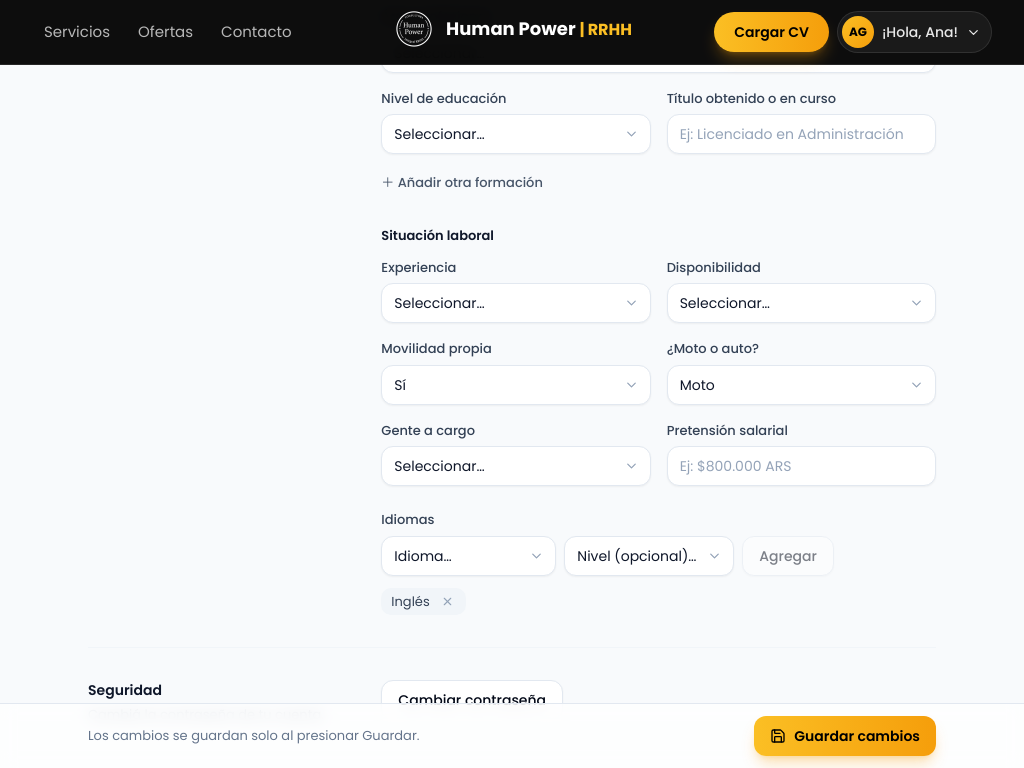
ProfilePage · movilidad y gente a cargo › volver a «No» esconde la repregunta, y volver a «Sí» recupera lo elegido
(page scrolled)
Expected: the dropdown labelled "¿Moto o auto?" shows "Moto", [667,364,936,404]
Select "No" in the dropdown labelled "Movilidad propia" at (516, 384), box [381,364,651,404]
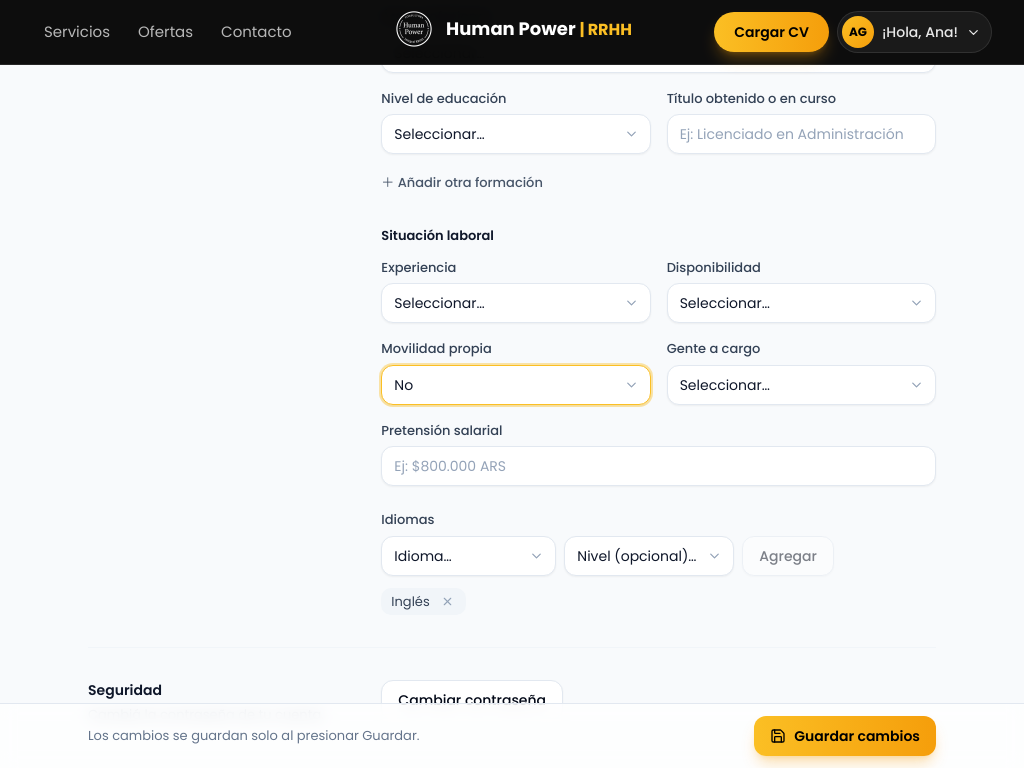
Result: the label labelled "Moto o auto" is gone
Select "Sí" in the dropdown labelled "Movilidad propia" at (516, 384), box [381,364,651,404]
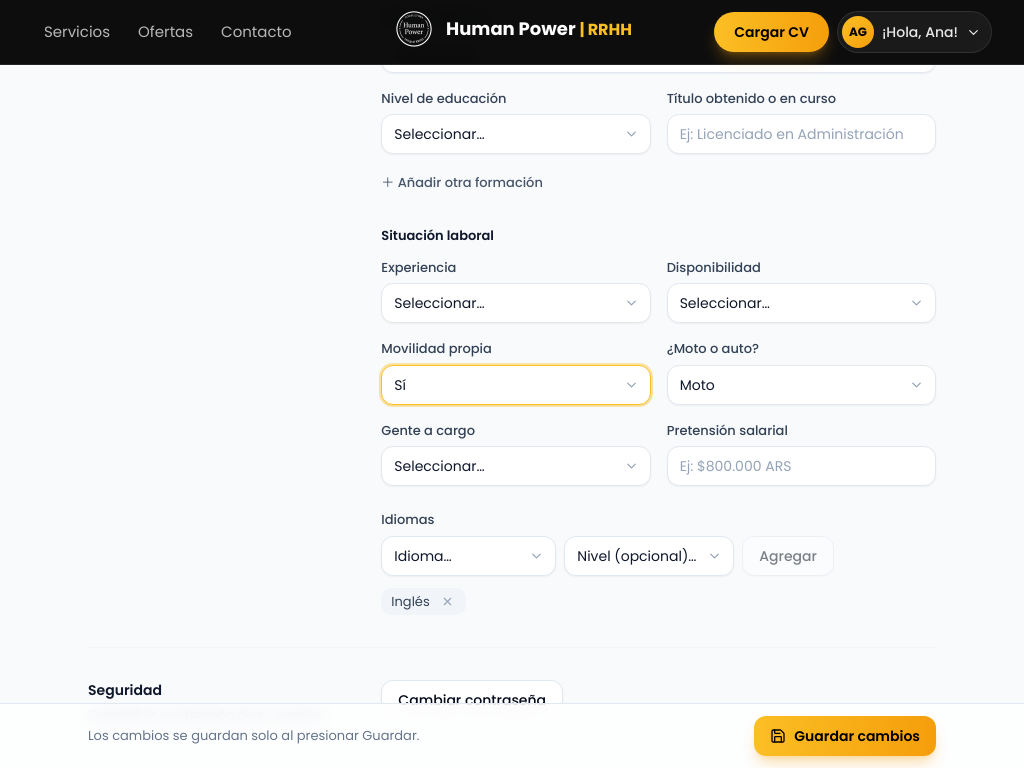
Result: the dropdown labelled "¿Moto o auto?" shows "Moto" at [667,364,936,404]
